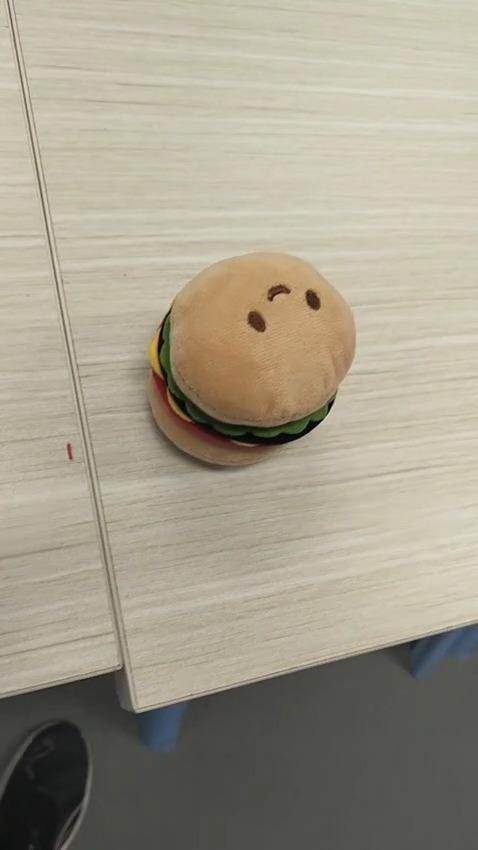hamburger: (145, 250, 356, 468)
